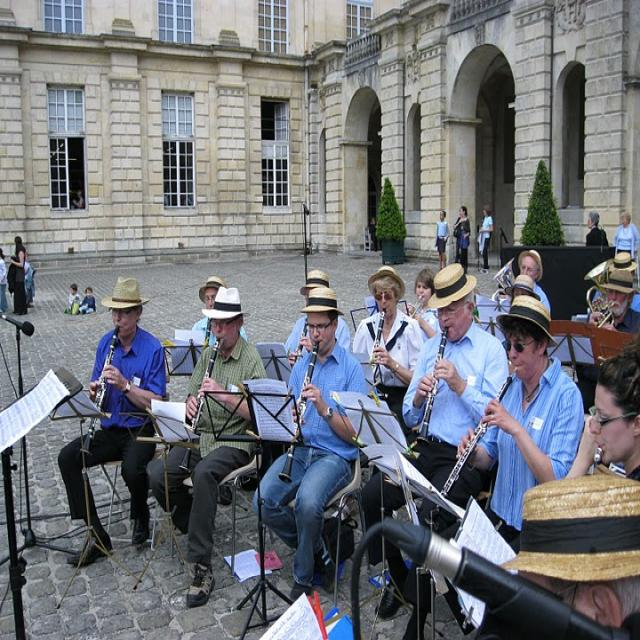clarinet: (428, 373, 515, 524), (276, 340, 321, 485), (177, 338, 220, 477), (78, 325, 121, 461), (414, 325, 448, 450), (368, 305, 387, 374), (292, 315, 312, 363)
